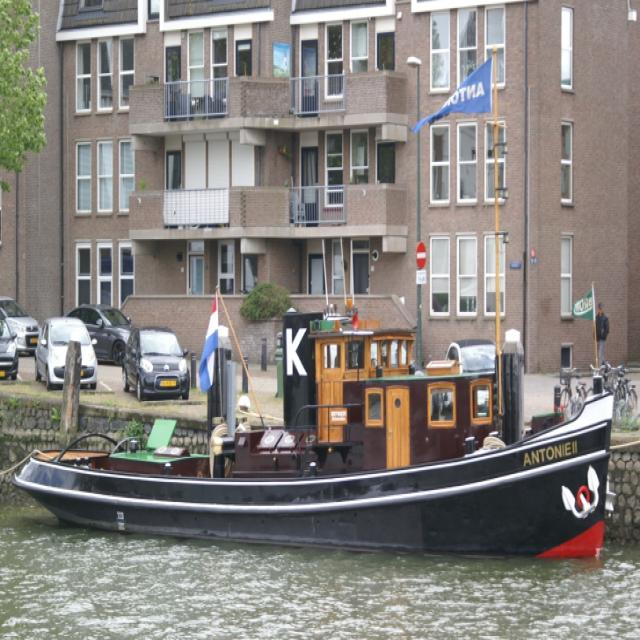tugboat: (8, 295, 611, 575)
